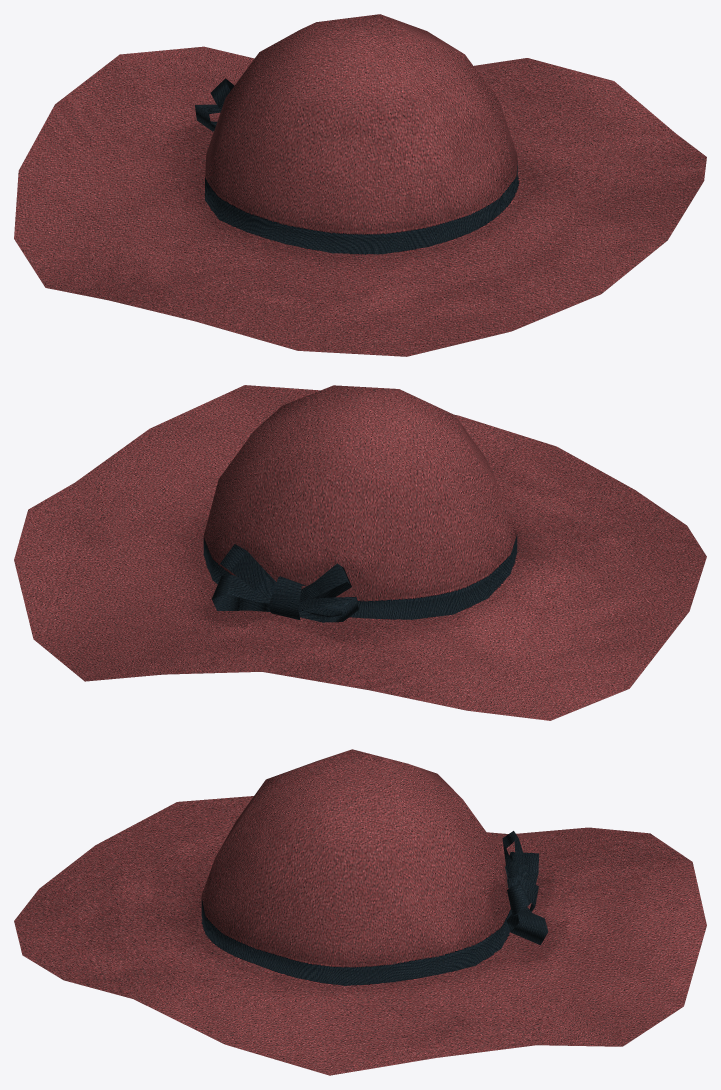
Rendered from Hat1_LOD1.fbx.
3 views of the same model, one above another, from view 1: azimuth 30°, elevation 25°; view 2: azimuth 150°, elevation 25°; view 3: azimuth 270°, elevation 25° (orthographic).
Parts seen in each view (by area): view 1: polySurface28; view 2: polySurface28; view 3: polySurface28.
Boxes of the visible parts, x1=… form: polySurface28: x1=14, y1=14, x2=706, y2=356; polySurface28: x1=14, y1=385, x2=706, y2=720; polySurface28: x1=14, y1=749, x2=706, y2=1075.
Size of the model in its own units: 48.5 by 15.78 by 49.67.
